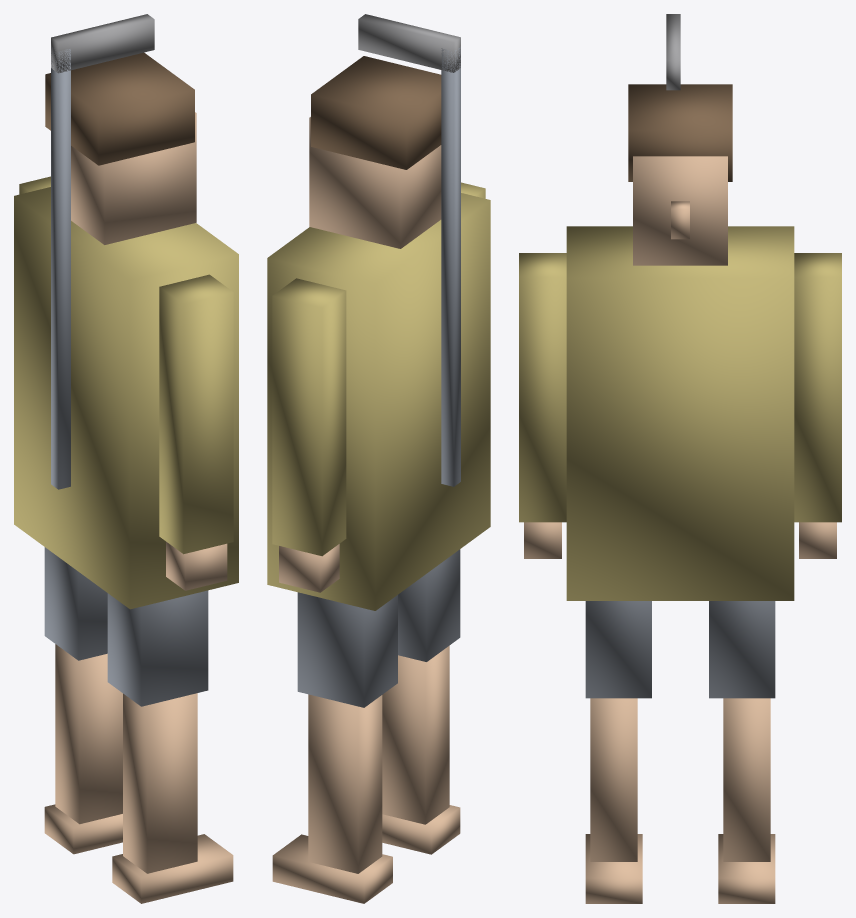
The model's file is tam.glb.
3 views of the same model, side by side, from view 1: azimuth 30°, elevation 25°; view 2: azimuth 150°, elevation 25°; view 3: azimuth 270°, elevation 25° (orthographic).
Parts seen in each view (by area): view 1: coat, shins, arms, legs, hair, head, hook, feet, blade, hands; view 2: coat, shins, arms, legs, hair, head, hook, feet, blade, hands; view 3: coat, arms, shins, legs, head, hair, feet, hands, blade.
Boxes of the visible parts, x1,y1,x2,y2 form: coat: (14, 187, 238, 609); shins: (55, 644, 197, 873); arms: (19, 176, 233, 554); legs: (44, 547, 208, 706); hair: (45, 52, 194, 165); head: (71, 112, 196, 244); hook: (51, 48, 70, 489); feet: (44, 804, 233, 903); blade: (51, 14, 154, 73); hands: (166, 541, 227, 590); coat: (267, 193, 490, 610); shins: (308, 645, 449, 873); arms: (272, 182, 485, 556); legs: (297, 549, 460, 707); hair: (311, 56, 441, 169); head: (309, 117, 441, 248); hook: (441, 46, 460, 486); feet: (272, 805, 460, 903); blade: (358, 14, 460, 72); hands: (279, 544, 339, 592); coat: (566, 226, 794, 600); arms: (519, 253, 841, 522); shins: (590, 698, 770, 861); legs: (585, 601, 775, 698); head: (633, 156, 727, 265); hair: (628, 84, 732, 181); feet: (585, 834, 775, 903); hands: (524, 522, 836, 558); blade: (666, 14, 680, 90).
Bounding box in the file's own units: 0.33 × 1.92 × 0.68.
